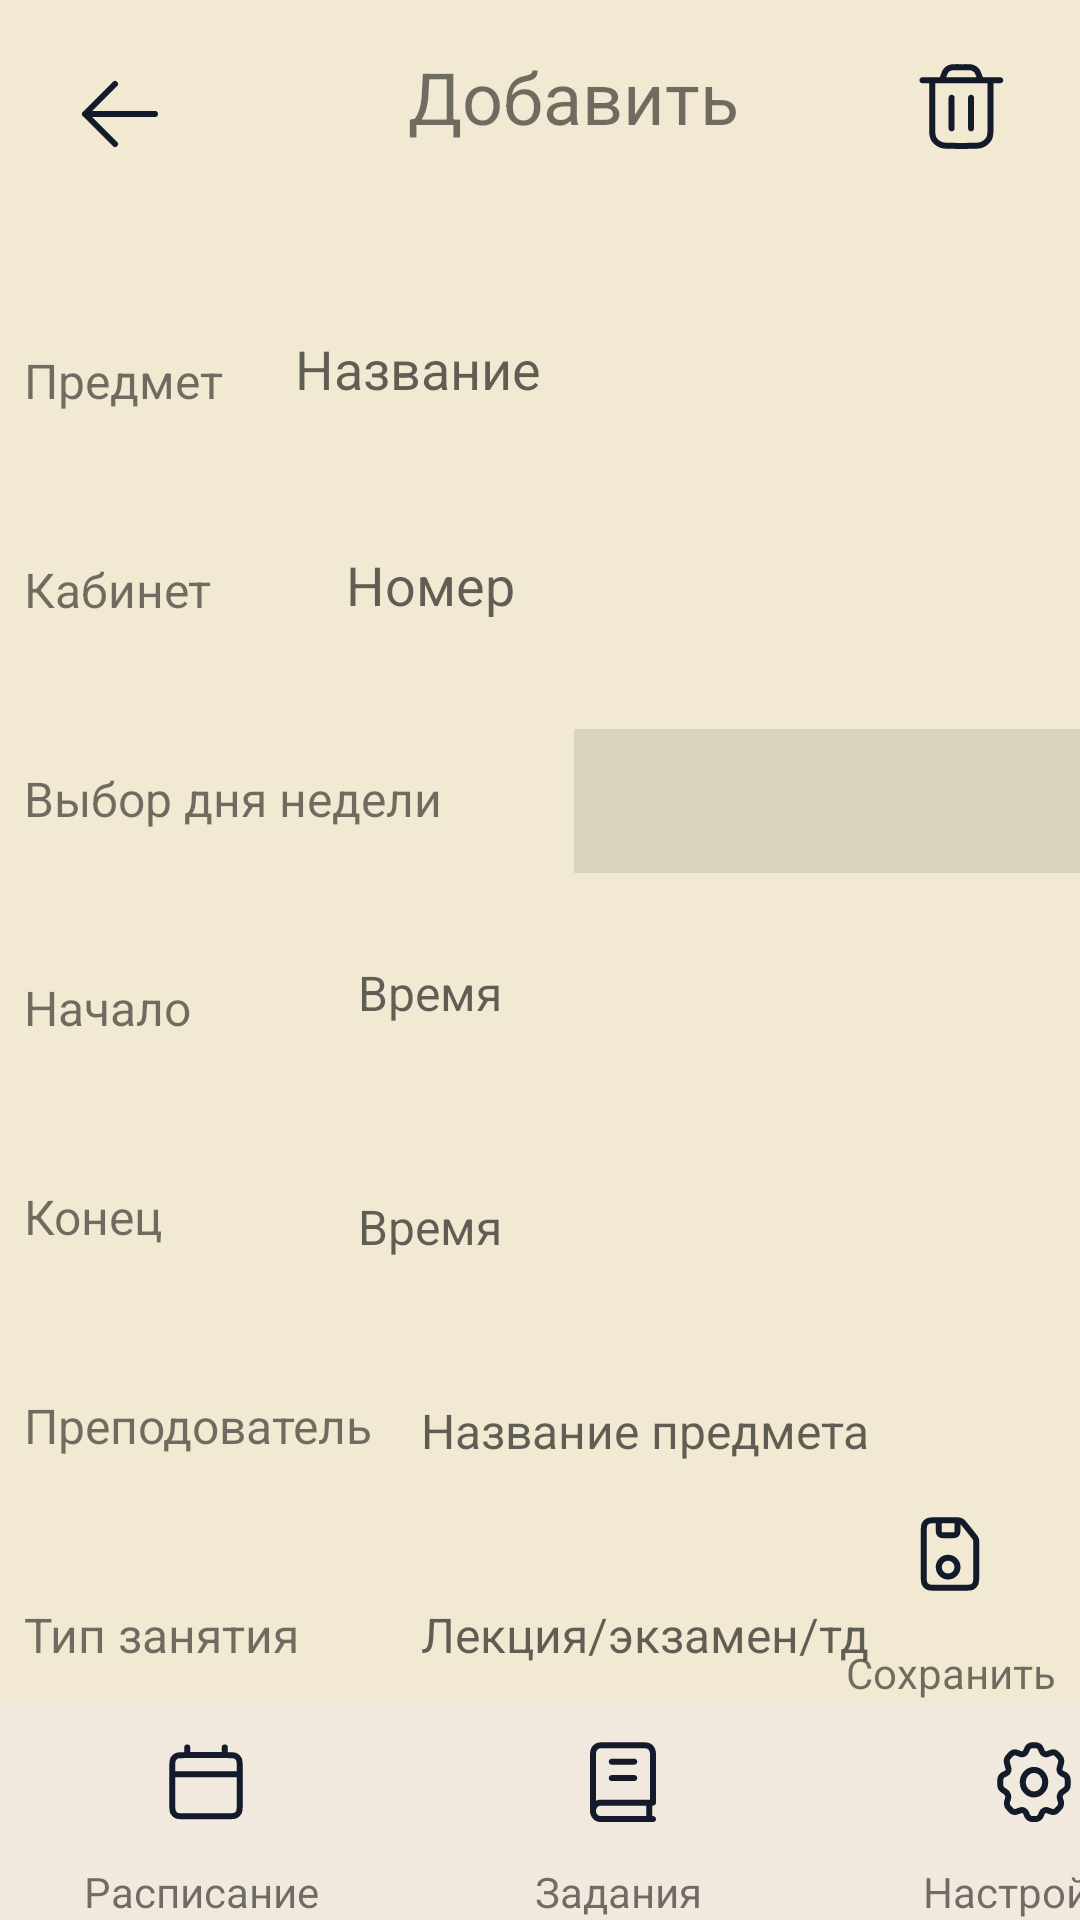

Icon bounding boxes for this 1080w x 1920h phone screenshot, format (x1, y1, x2, y2):
arrow left: (82, 81, 158, 147)
book: (590, 1742, 656, 1822)
calendar: (169, 1744, 243, 1820)
floppy disk: (920, 1517, 980, 1591)
trash: (919, 64, 1004, 149)
